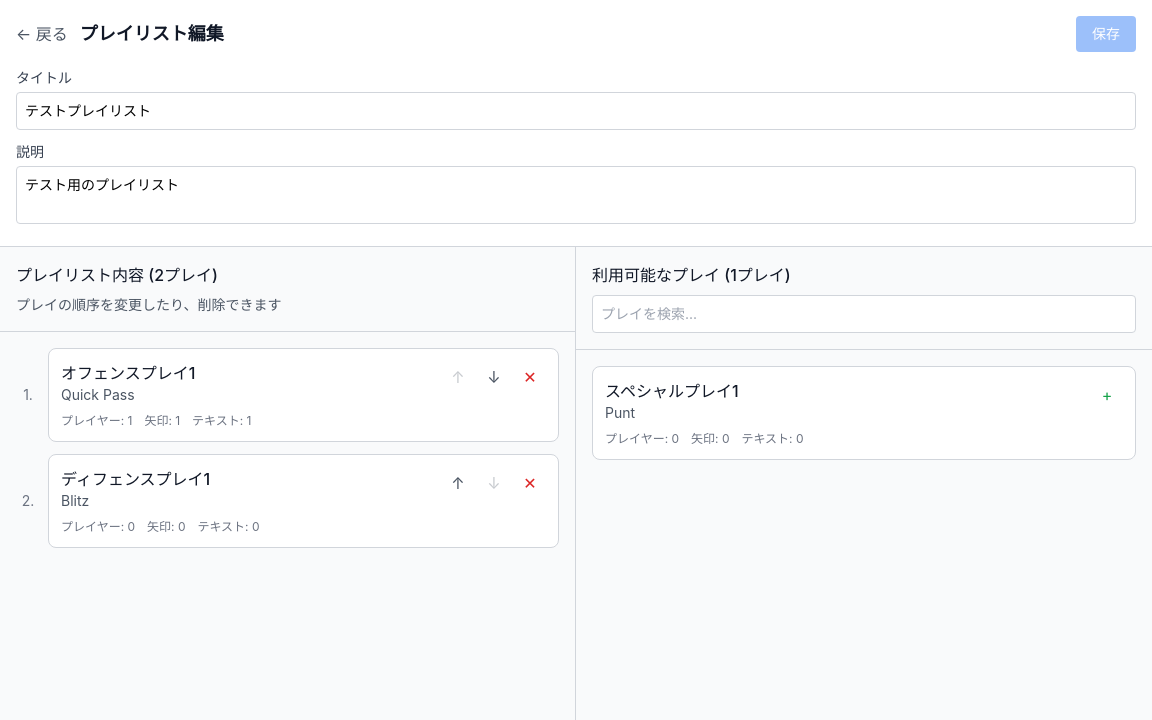
it: PlaylistEditor › プレイリストからプレイを削除できること
The image size is (1152, 720).
// 削除ボタンをクリック
Step 1. Click the button titled "プレイリストから削除" in the row of "オフェンスプレイ1" → (530, 377), box [514,361,546,393]
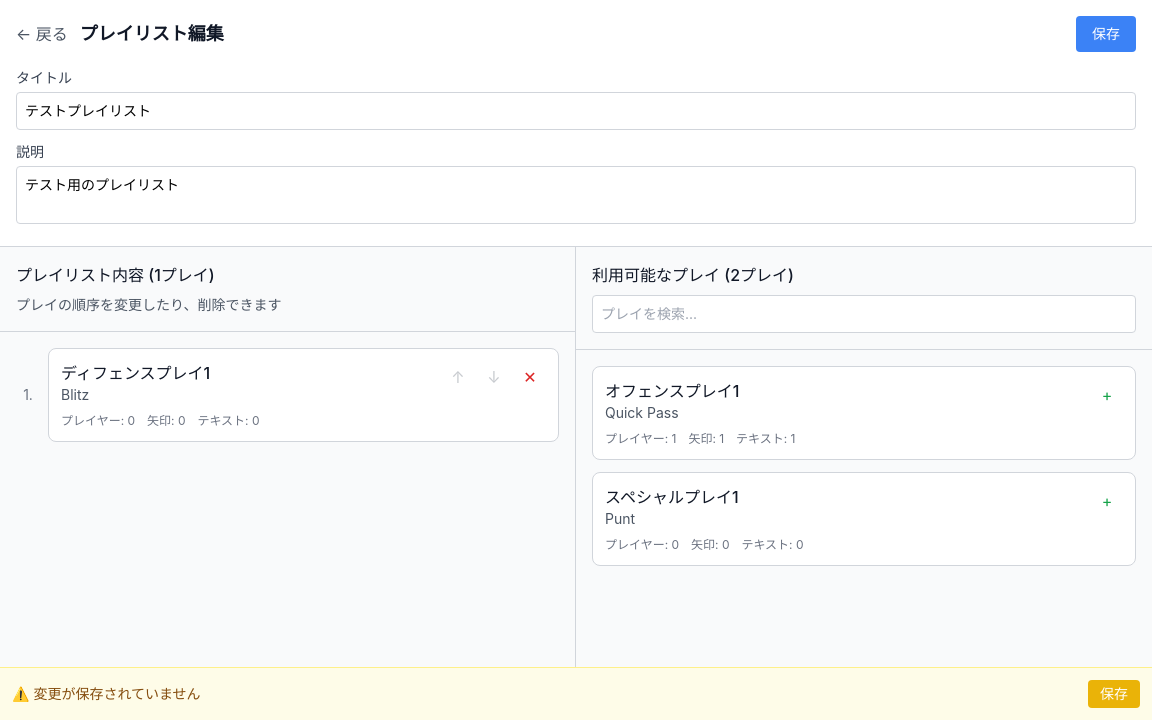
Check: the heading "プレイリスト内容 (1プレイ)" is shown, box [16,265,215,285]
Check: the heading "利用可能なプレイ (2プレイ)" is shown, box [592,265,794,285]
